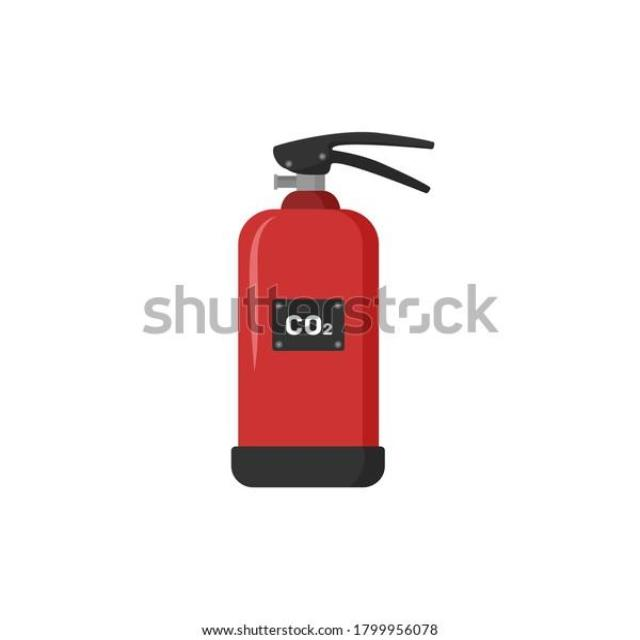fire_extinguisher: (218, 127, 437, 493)
